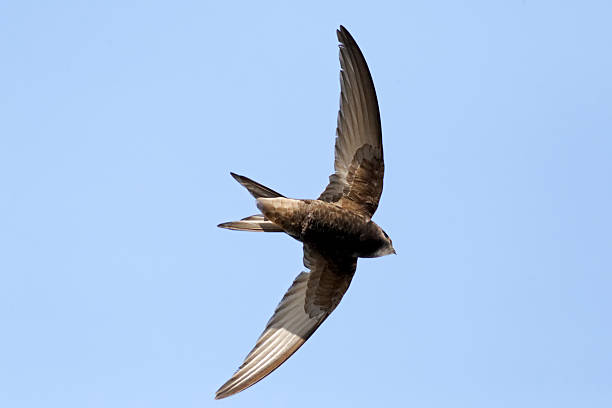Bird: (210, 14, 399, 400)
